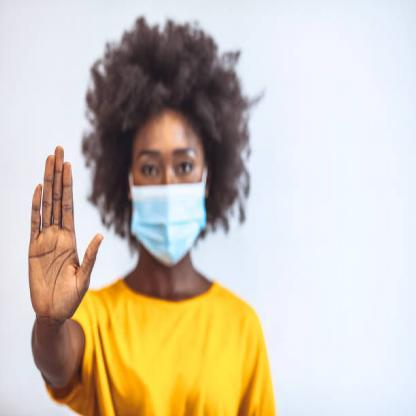stop: (26, 141, 104, 328)
